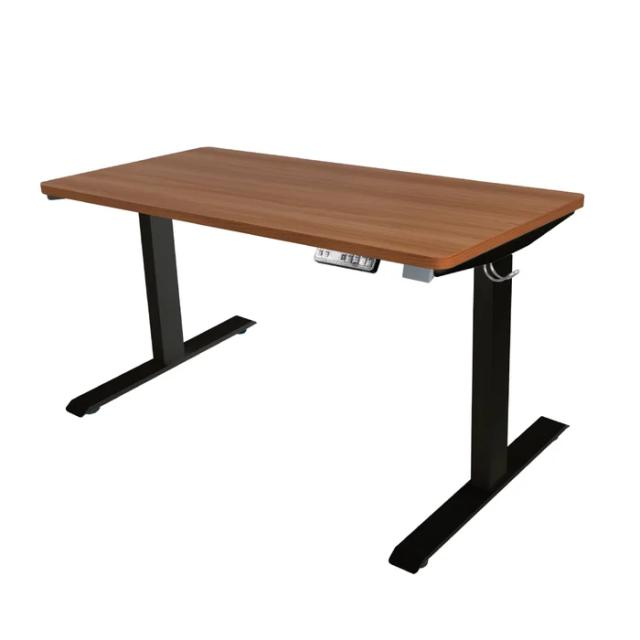table: (18, 128, 604, 576)
